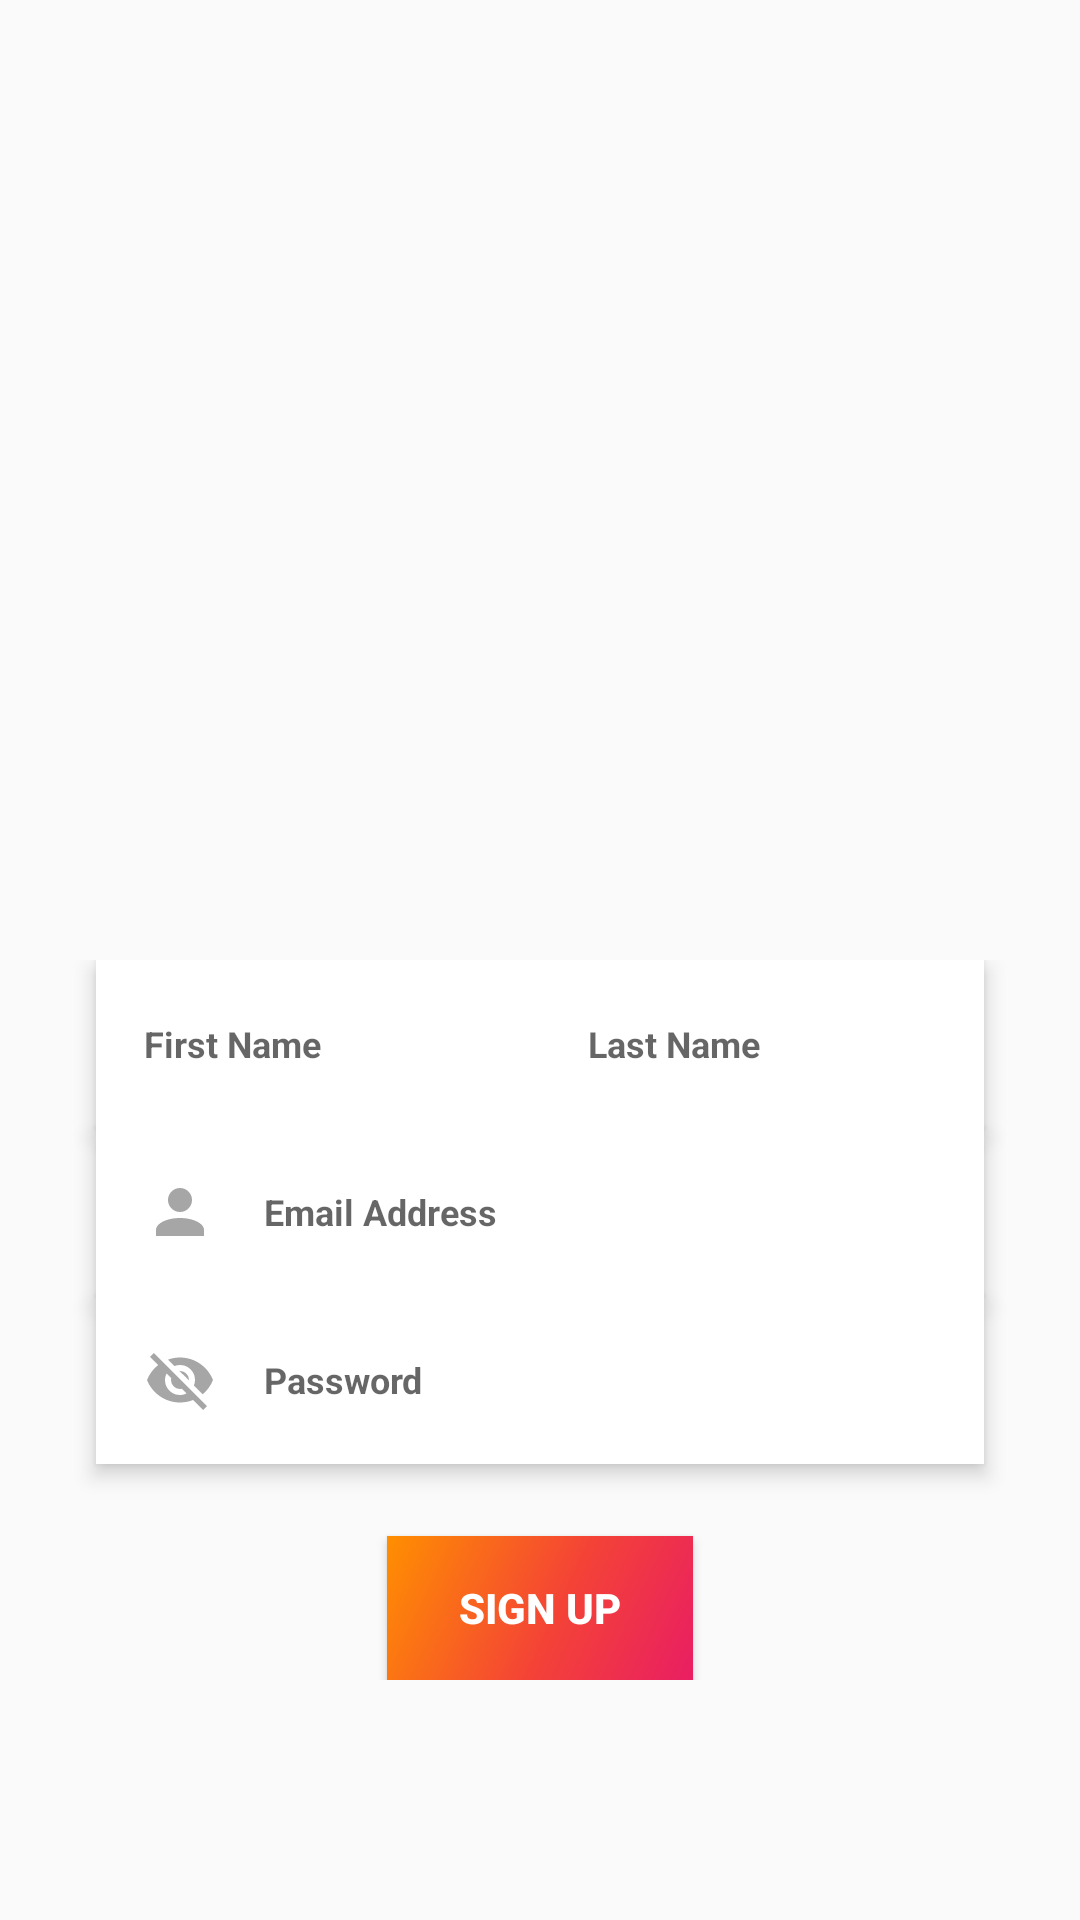

Icons on this 1080 x 1920 Android screen, each with the point to tap as point (x, y):
eye slash for login: point (180, 1381)
user for login: point (180, 1212)
